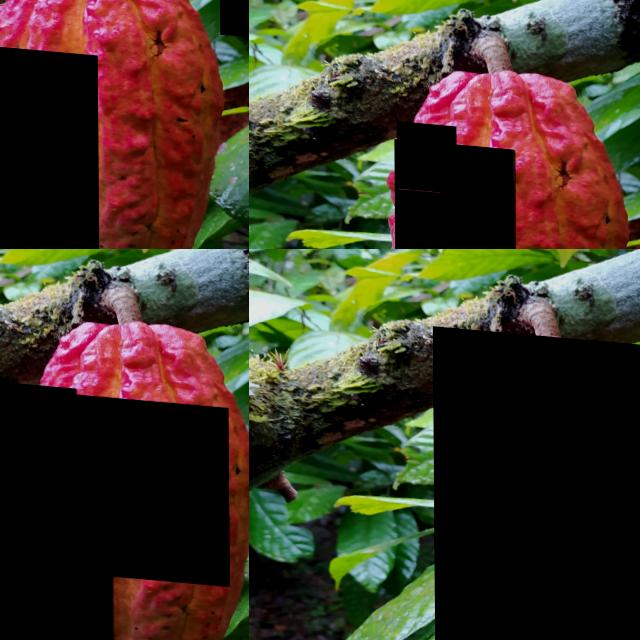Fitoftora: (59, 388, 229, 578), (397, 118, 456, 190)
Monilia: (394, 135, 516, 249)
Sana: (432, 322, 640, 640), (0, 364, 77, 640), (0, 40, 98, 249), (0, 541, 112, 640)
